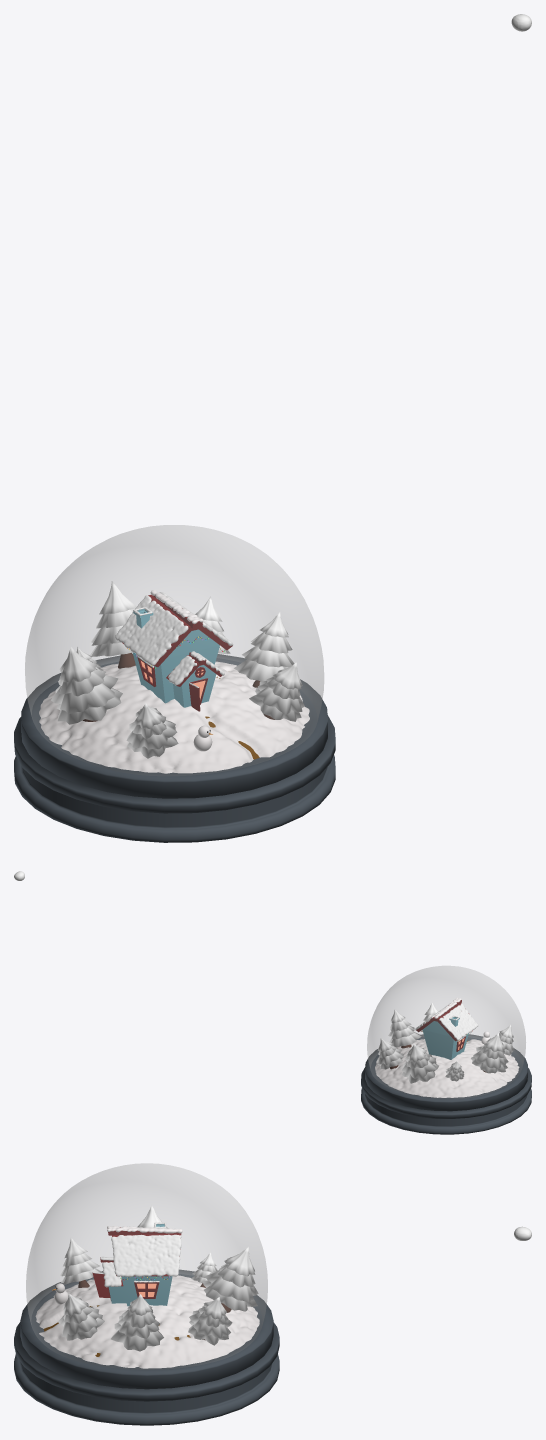
Rendered from EsferaNavidad (1).glb.
The picture shows the model from 3 angles, top to bottom: view 1: azimuth 30°, elevation 25°; view 2: azimuth 150°, elevation 25°; view 3: azimuth 270°, elevation 25°; orthographic projection. The views are drawn at different scales.
Parts seen in each view (by area): view 1: esfera, Base, SnowBall.009, SnowBall.001, Plano, Cono.005; view 2: esfera, Base, SnowBall.009, Plano, SnowBall.001, Cono.025, Cono.005; view 3: esfera, Base, SnowBall.009, SnowBall.001, Plano, Cono.025, Cono.016, Cono.024, Cono.021, Cono.013, Cono.027, Cono.017 (+9 smaller).
Part boxes in pixels (bbox=[...]): esfera: bbox=[25, 525, 323, 775]; Base: bbox=[14, 654, 335, 842]; SnowBall.009: bbox=[39, 661, 309, 773]; SnowBall.001: bbox=[115, 592, 233, 665]; Plano: bbox=[132, 629, 219, 703]; Cono.005: bbox=[51, 675, 118, 713]; esfera: bbox=[367, 966, 525, 1098]; Base: bbox=[361, 1034, 531, 1134]; SnowBall.009: bbox=[375, 1039, 519, 1097]; Plano: bbox=[422, 1021, 468, 1059]; SnowBall.001: bbox=[415, 1003, 478, 1040]; Cono.025: bbox=[401, 1054, 436, 1078]; Cono.005: bbox=[473, 1046, 508, 1068]; esfera: bbox=[26, 1163, 267, 1369]; Base: bbox=[14, 1269, 279, 1425]; SnowBall.009: bbox=[35, 1275, 259, 1368]; SnowBall.001: bbox=[111, 1228, 181, 1277]; Plano: bbox=[121, 1276, 172, 1306]; Cono.025: bbox=[205, 1270, 258, 1302]; Cono.016: bbox=[111, 1323, 163, 1351]; Cono.024: bbox=[203, 1280, 257, 1311]; Cono.021: bbox=[58, 1306, 99, 1335]; Cono.013: bbox=[189, 1310, 232, 1338]; Cono.027: bbox=[224, 1246, 255, 1276]; Cono.017: bbox=[118, 1315, 159, 1338].
Bounding box in the file's own units: 33.01 × 19.74 × 24.84.
